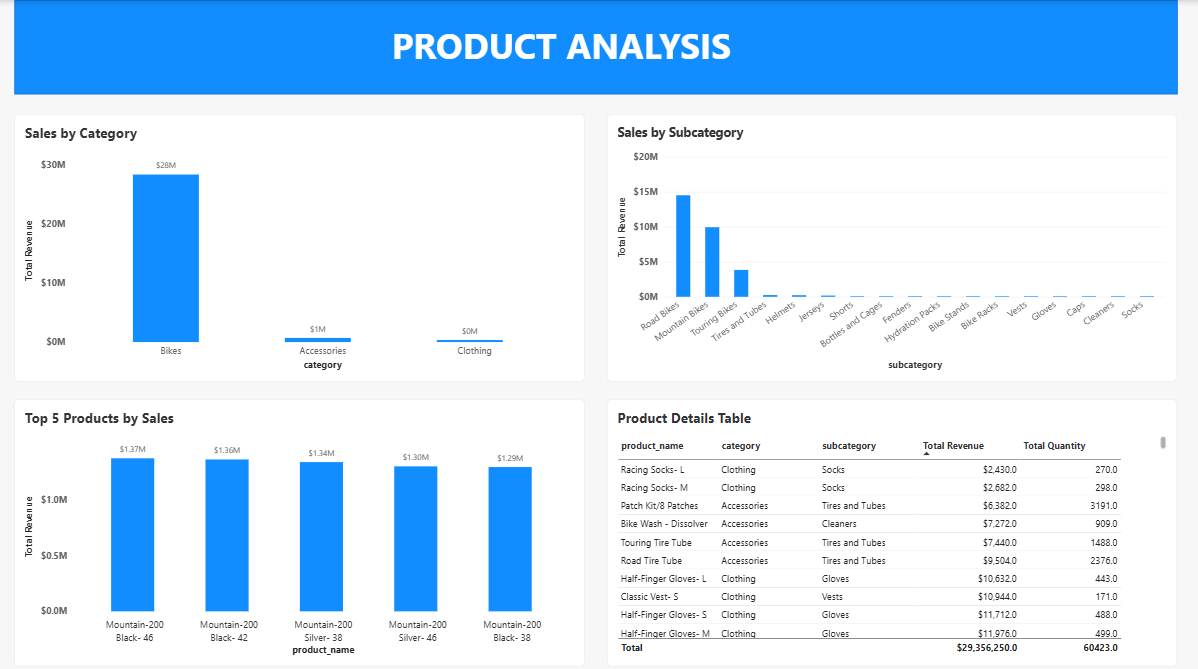

The dashboard page shown, as its layout file describes it:
{"tool":"powerbi","page":{"name":"Product Analysis","canvas":[1920,1080],"ordinal":2},"visuals":[{"type":"clusteredColumnChart","title":"Sales by Category","fields":{"Category":["dim_products.category"],"Y":["fact_sales.Total Sales"]},"box":[34.8,180.4,906.5,426.1],"z":0},{"type":"lineClusteredColumnComboChart","title":"Sales by Subcategory","fields":{"Category":["dim_products.subcategory"],"Y":["fact_sales.Total Revenue"]},"box":[978.3,180.4,906.5,426.1],"z":1000},{"type":"columnChart","title":"Top 5 Products by Sales","fields":{"Category":["dim_products.product_name"],"Y":["fact_sales.Total Revenue"]},"box":[34.8,634.8,906.5,426.1],"z":2000},{"type":"tableEx","title":"Product Details Table","fields":{"Values":["dim_products.product_name","dim_products.category","dim_products.subcategory","fact_sales.Total Sales","fact_sales.Total Quantity"]},"box":[978.3,634.8,906.5,426.1],"z":3000},{"type":"shape","box":[34.8,0,1850,150],"z":4000},{"type":"textbox","box":[417.4,32.6,976.1,76.1],"z":5000}]}

Visuals, with their boxes in screenshot pixels (x1, y1, x2, y2), scaled from the page's 1920x1080 canvas onto the 1198x669 screenshot:
"Sales by Category" clusteredColumnChart: 22 112 587 376
"Sales by Subcategory" lineClusteredColumnComboChart: 610 112 1176 376
"Top 5 Products by Sales" columnChart: 22 393 587 657
"Product Details Table" tableEx: 610 393 1176 657
shape: 22 0 1176 93
textbox: 260 20 869 67
